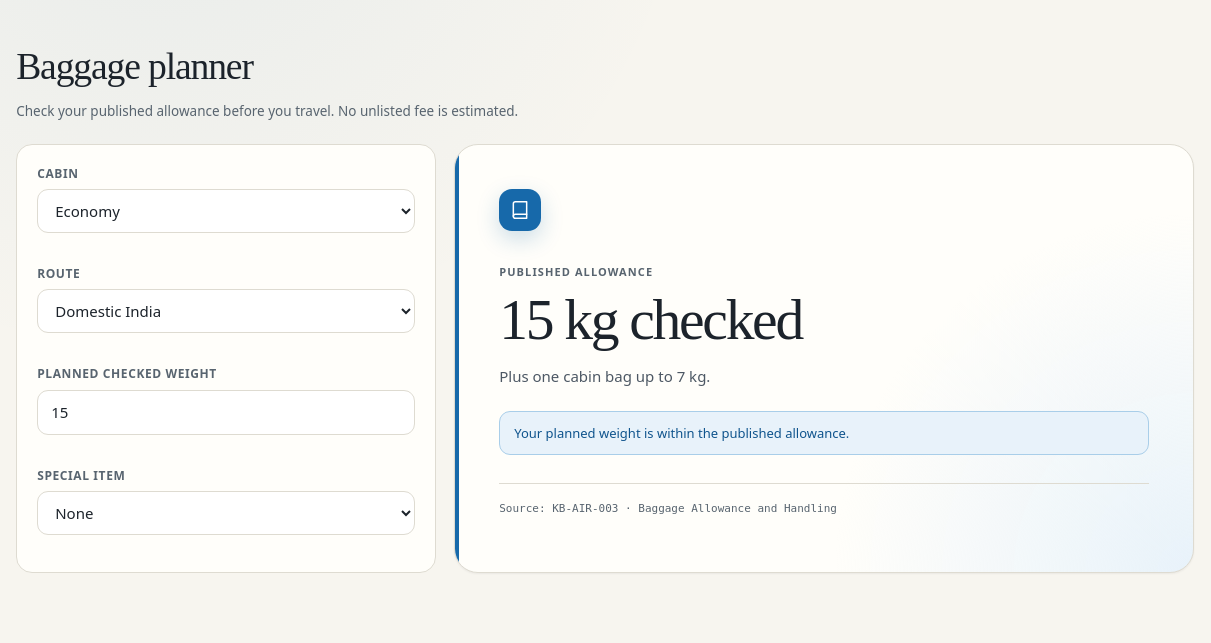
Test: BaggageCalculator › warns about dangerous-goods restrictions for battery devices
Select "Battery-powered device" in the dropdown labelled "Special item". click: (226, 513)
box: [37,491,415,535]
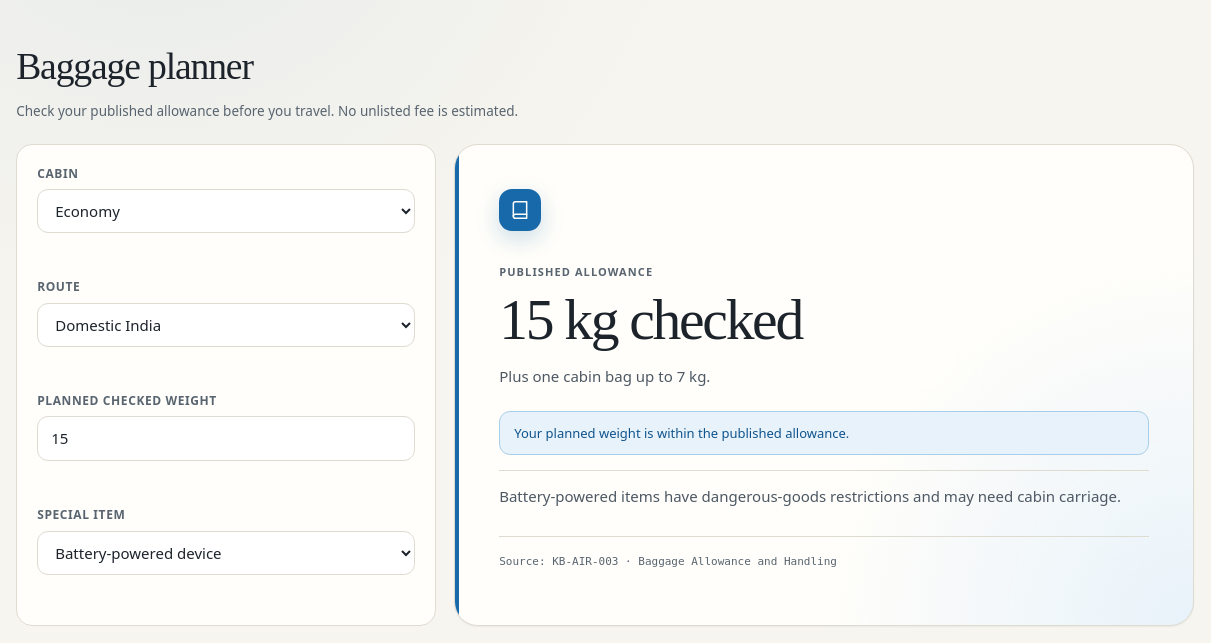
Check: the text "dangerous-goods restrictions" is shown, box [499,486,1121,506]
